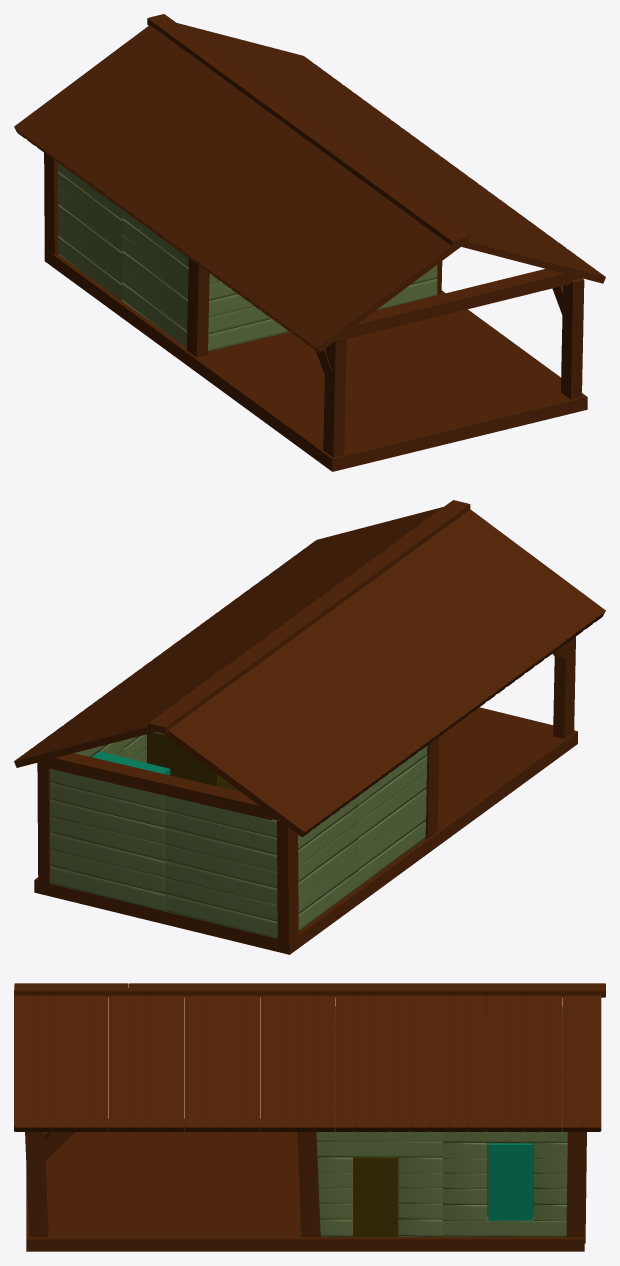
File: house.fbx
The picture shows the model from 3 angles, top to bottom: view 1: azimuth 30°, elevation 25°; view 2: azimuth 150°, elevation 25°; view 3: azimuth 270°, elevation 25°; orthographic projection. The views are drawn at different scales.
Visible parts, largest first — view 1: Cube.001; view 2: Cube.001; view 3: Cube.001.
Part boxes in pixels (x1=…): Cube.001: x1=14, y1=14, x2=605, y2=471; Cube.001: x1=14, y1=500, x2=605, y2=954; Cube.001: x1=14, y1=983, x2=605, y2=1251.
Bounding box in the file's own units: 525 × 358 × 954.
